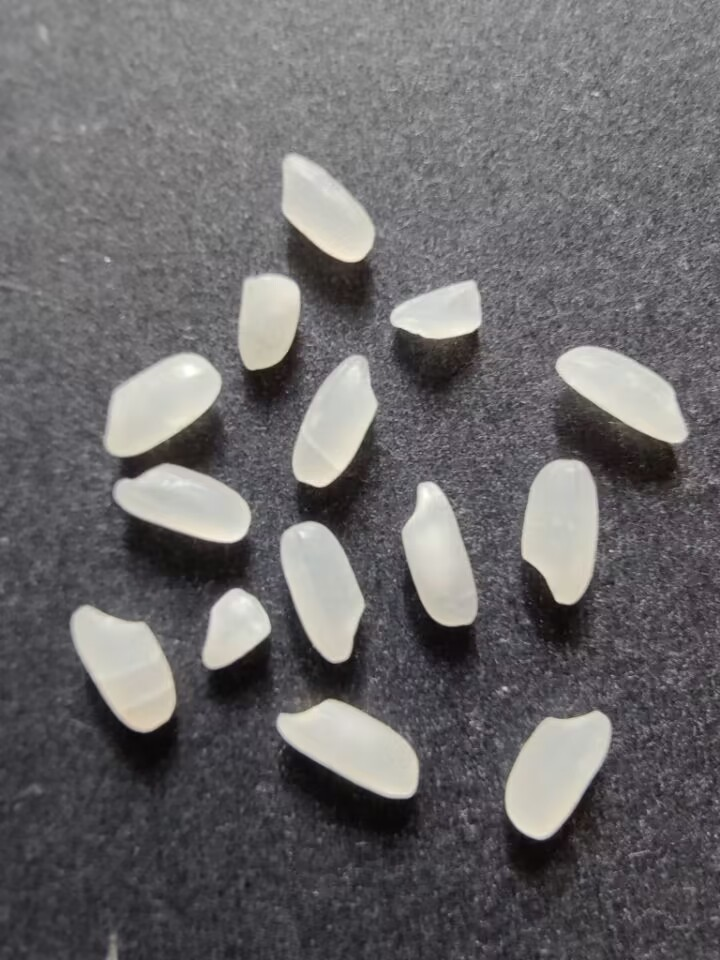broken: (233, 269, 305, 373), (384, 277, 484, 344), (199, 586, 271, 677)
rice: (270, 694, 420, 802), (503, 704, 617, 844), (67, 601, 180, 738), (550, 344, 691, 448), (275, 519, 369, 672), (107, 460, 256, 549), (99, 352, 224, 458), (397, 476, 481, 632), (518, 456, 601, 610), (288, 349, 378, 488), (274, 153, 380, 267)
